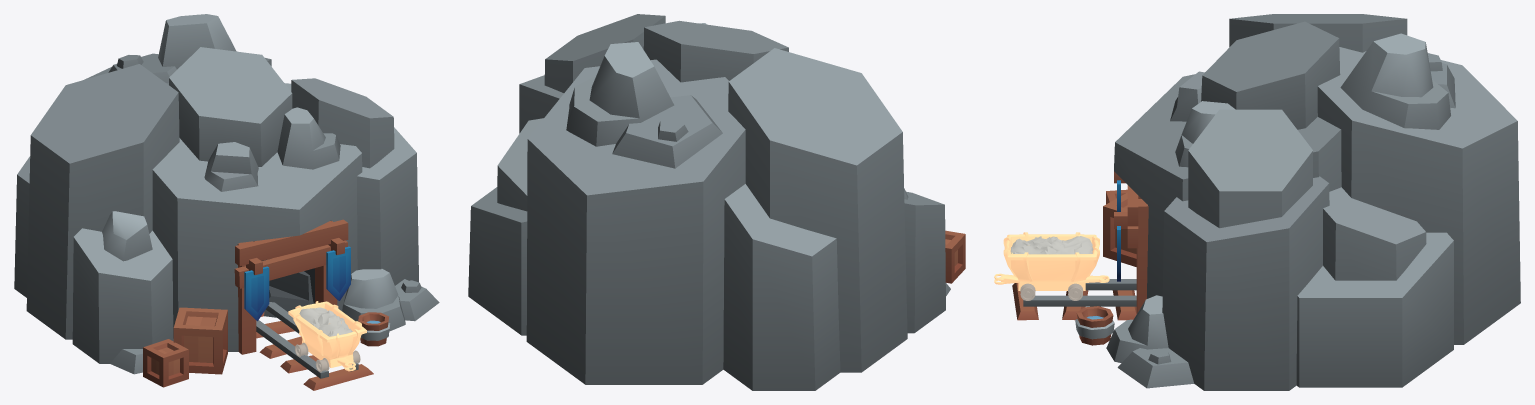
3 renders of one model, left to right at view 1: azimuth 30°, elevation 25°; view 2: azimuth 150°, elevation 25°; view 3: azimuth 270°, elevation 25°, orthographic. The views are drawn at different scales.
Parts seen in each view (by area): view 1: building_mine_blue, Object_3, iron, reyki, wheels; view 2: building_mine_blue; view 3: building_mine_blue, Object_3, iron, reyki, wheels.
Boxes of the visible parts, <box> form: building_mine_blue: <box>14,14,439,390</box>; Object_3: <box>288,301,366,371</box>; iron: <box>299,307,352,336</box>; reyki: <box>256,326,320,378</box>; wheels: <box>295,342,360,372</box>; building_mine_blue: <box>468,14,965,390</box>; building_mine_blue: <box>1012,14,1520,390</box>; Object_3: <box>994,232,1109,290</box>; iron: <box>1010,236,1093,254</box>; reyki: <box>1023,300,1136,306</box>; wheels: <box>1020,283,1083,300</box>.
Bounding box in the file's own units: 1.61 × 1.14 × 1.99.
4 materials, 1 textured.
